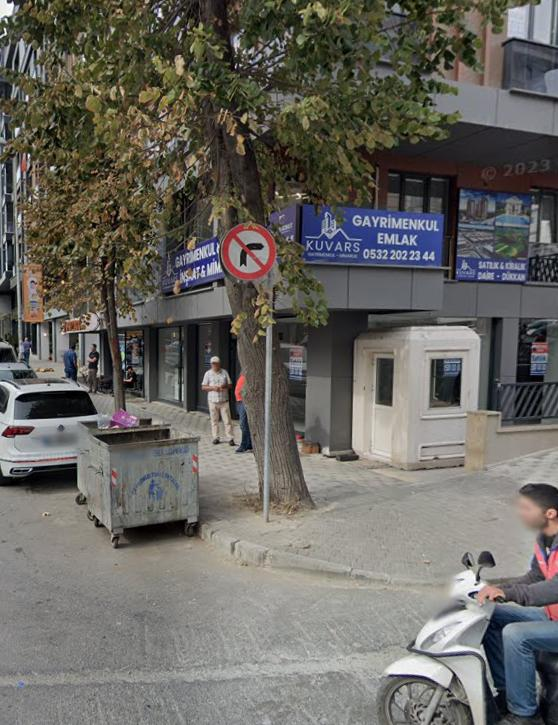rightturnsareforbidden: (224, 225, 273, 276)
